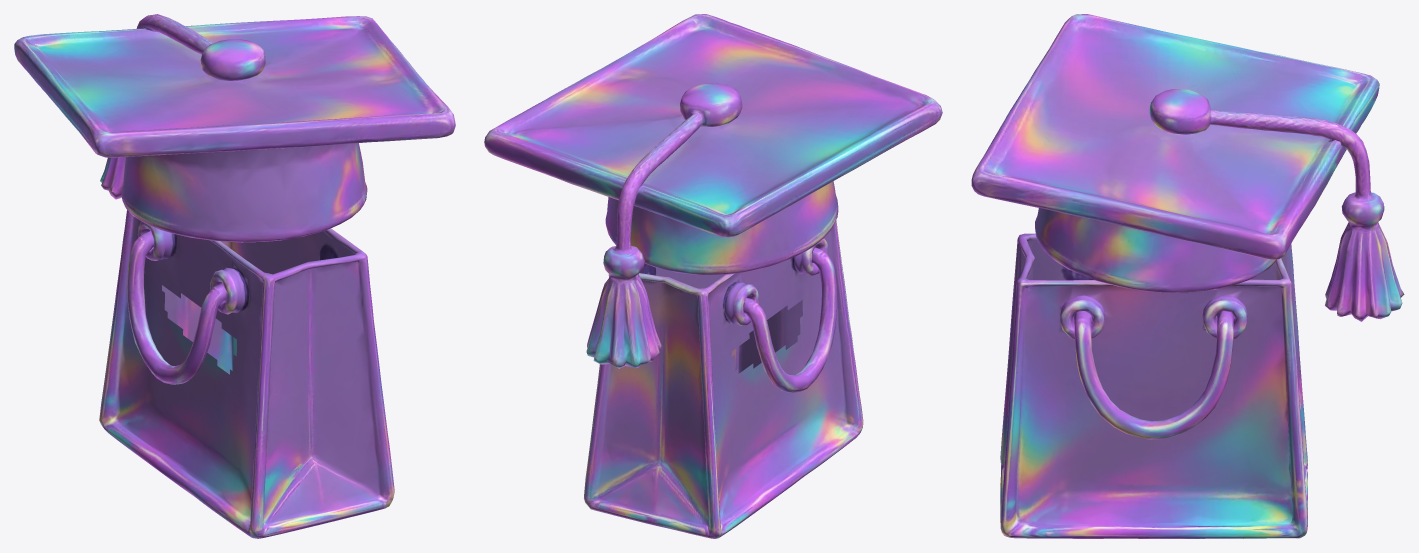
Rendered from academy.glb.
The picture shows the model from 3 angles, left to right: view 1: azimuth 30°, elevation 25°; view 2: azimuth 150°, elevation 25°; view 3: azimuth 270°, elevation 25°; orthographic projection. The views are drawn at different scales.
Visible parts, largest first — view 1: tripo_node_5e0465c4-648a-4b9c-af5c-e2e5e935393a; view 2: tripo_node_5e0465c4-648a-4b9c-af5c-e2e5e935393a; view 3: tripo_node_5e0465c4-648a-4b9c-af5c-e2e5e935393a.
Boxes of the visible parts, x1,y1,x2,y2 form: tripo_node_5e0465c4-648a-4b9c-af5c-e2e5e935393a: (14, 14, 455, 538); tripo_node_5e0465c4-648a-4b9c-af5c-e2e5e935393a: (484, 14, 942, 538); tripo_node_5e0465c4-648a-4b9c-af5c-e2e5e935393a: (971, 14, 1404, 538).
Bounding box in the file's own units: 0.959 × 1 × 0.9581.
Materials: 1 (1 with a texture image).
